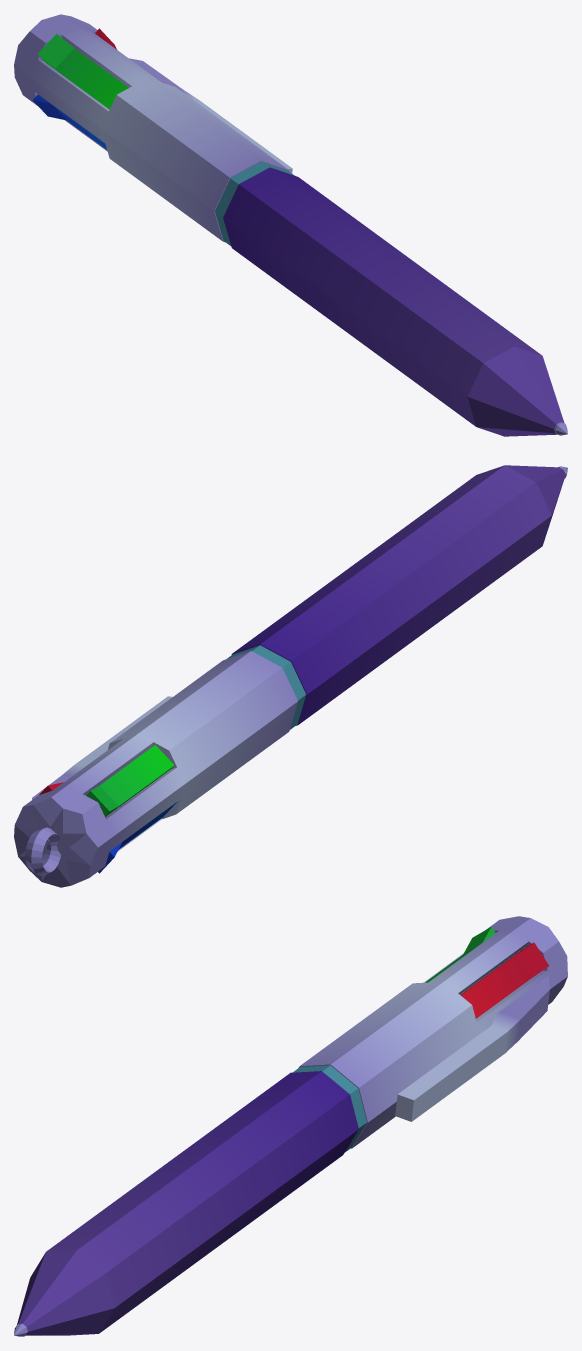
Rendered from 4ColorsPenModel.fbx.
3 renders of one model, top to bottom at view 1: azimuth 30°, elevation 25°; view 2: azimuth 150°, elevation 25°; view 3: azimuth 330°, elevation 25°, orthographic.
Parts seen in each view (by area): view 1: Caneta_4cores; view 2: Caneta_4cores; view 3: Caneta_4cores.
Part boxes in pixels (bbox=[...]): Caneta_4cores: bbox=[14, 14, 567, 436]; Caneta_4cores: bbox=[14, 465, 567, 887]; Caneta_4cores: bbox=[14, 916, 567, 1336].
Bounding box in the file's own units: 1.23 × 0.9934 × 10.97.
